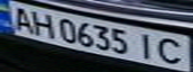0: (54, 16, 78, 44)
3: (90, 22, 112, 52)
5: (109, 26, 133, 56)
6: (75, 20, 96, 48)
A: (6, 3, 36, 34)
C: (154, 35, 190, 66)
H: (27, 9, 57, 38)
I: (133, 30, 160, 61)
